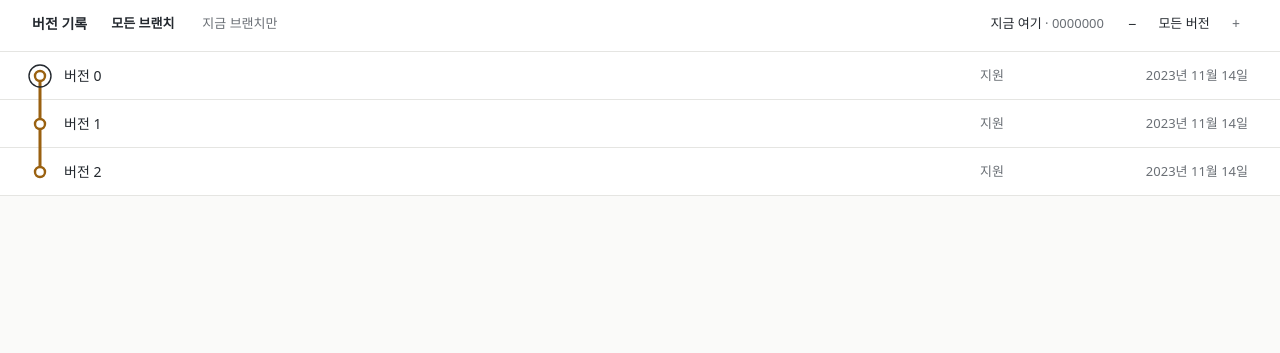
it: 역 메뉴 › 열린 역을 한 번 더 누르면 닫는다
The width and height of the screenshot is (1280, 353).
Press the mouse on the list at (640, 124), box x1=0 y1=52 x2=1279 y2=196
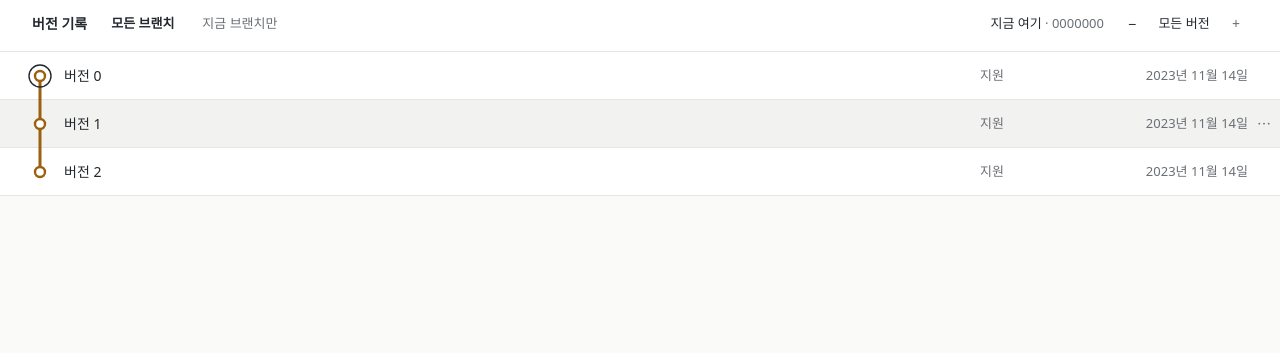
Press the mouse on the list at (640, 124), box x1=0 y1=52 x2=1279 y2=196
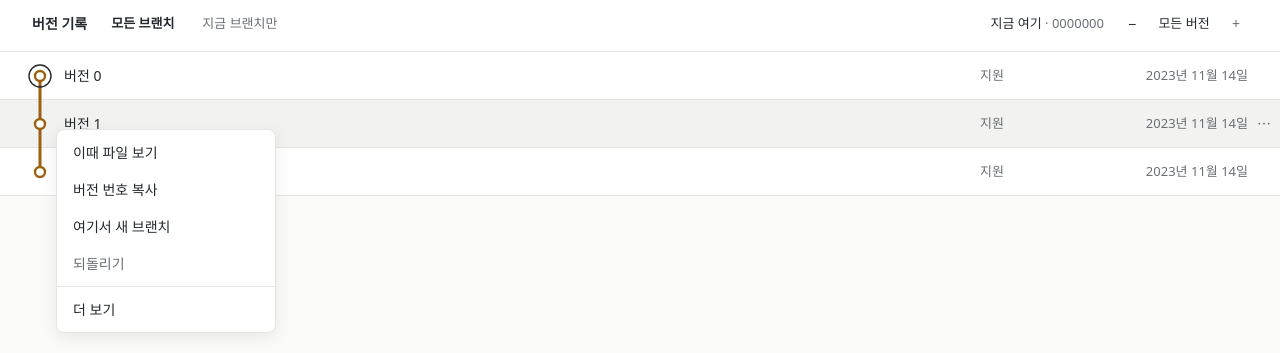
Now the menu is shown, box x1=56 y1=129 x2=276 y2=333
Press the mouse on the list at (640, 124), box x1=0 y1=52 x2=1279 y2=196
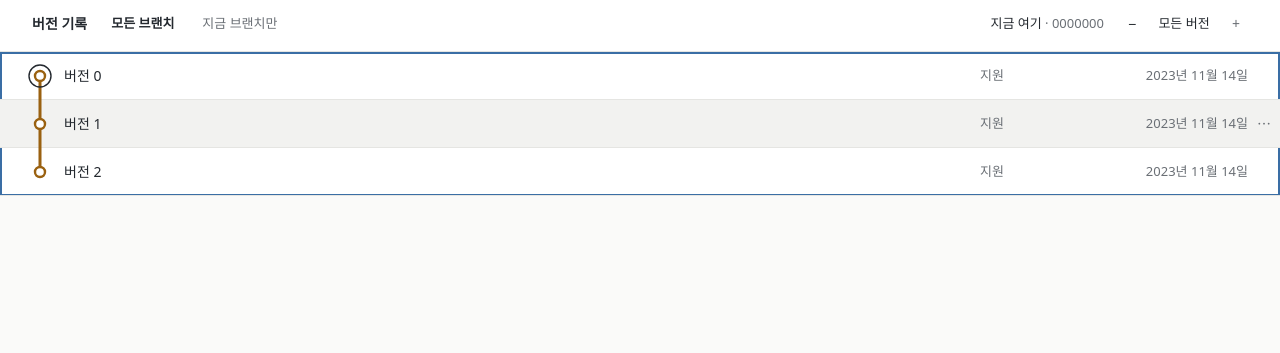
Now the menu is gone
